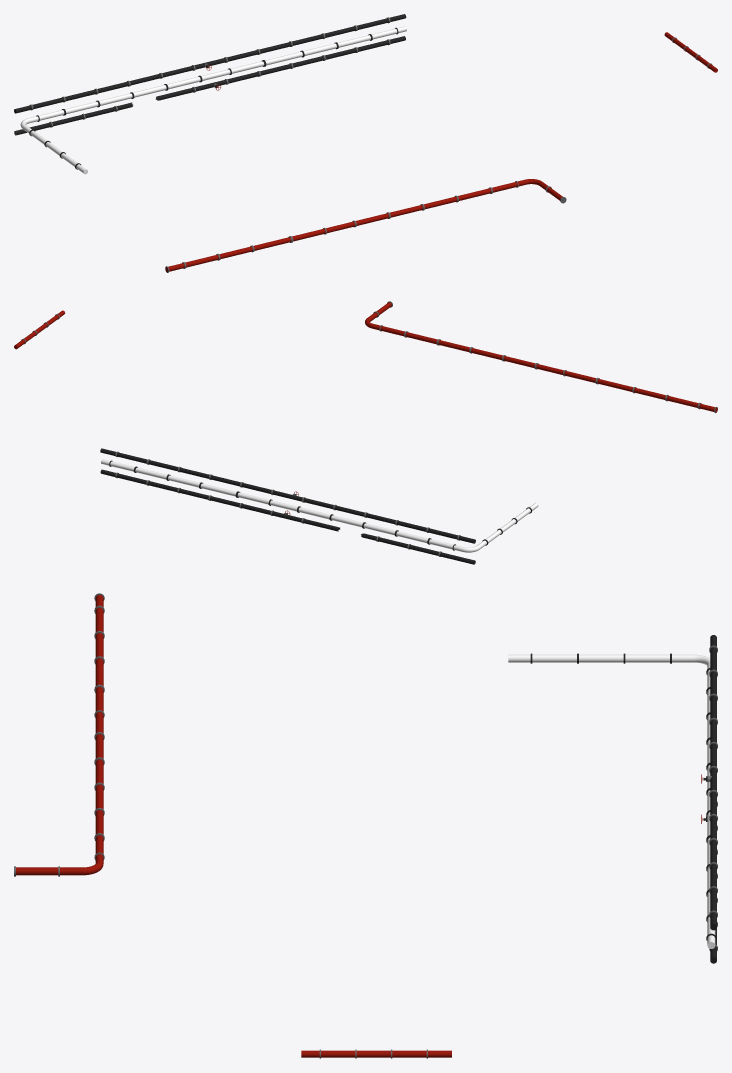
File: Tuberias.fbx
3 renders of one model, top to bottom at view 1: azimuth 30°, elevation 25°; view 2: azimuth 150°, elevation 25°; view 3: azimuth 270°, elevation 25°, orthographic. The views are drawn at different scales.
Parts seen in each view (by area): view 1: Cylinder033, Cylinder035, Cylinder032, Cylinder050, Cylinder051; view 2: Cylinder033, Cylinder035, Cylinder032, Cylinder050, Cylinder051; view 3: Cylinder035, Cylinder033, Cylinder032, Cylinder034.
Boxes of the visible parts, x1,y1,x2,y2 form: Cylinder033: (20,26,406,174); Cylinder035: (165,179,566,272); Cylinder032: (14,14,406,113); Cylinder050: (155,36,405,100); Cylinder051: (14,102,132,135); Cylinder033: (101,459,538,552); Cylinder035: (365,301,717,413); Cylinder032: (100,448,475,543); Cylinder050: (100,469,340,531); Cylinder051: (361,533,475,564); Cylinder035: (14,593,104,876); Cylinder033: (508,653,716,948); Cylinder032: (701,635,717,930); Cylinder034: (301,1049,451,1058).
Bounding box in the file's own units: 4669 × 214 × 3030.
